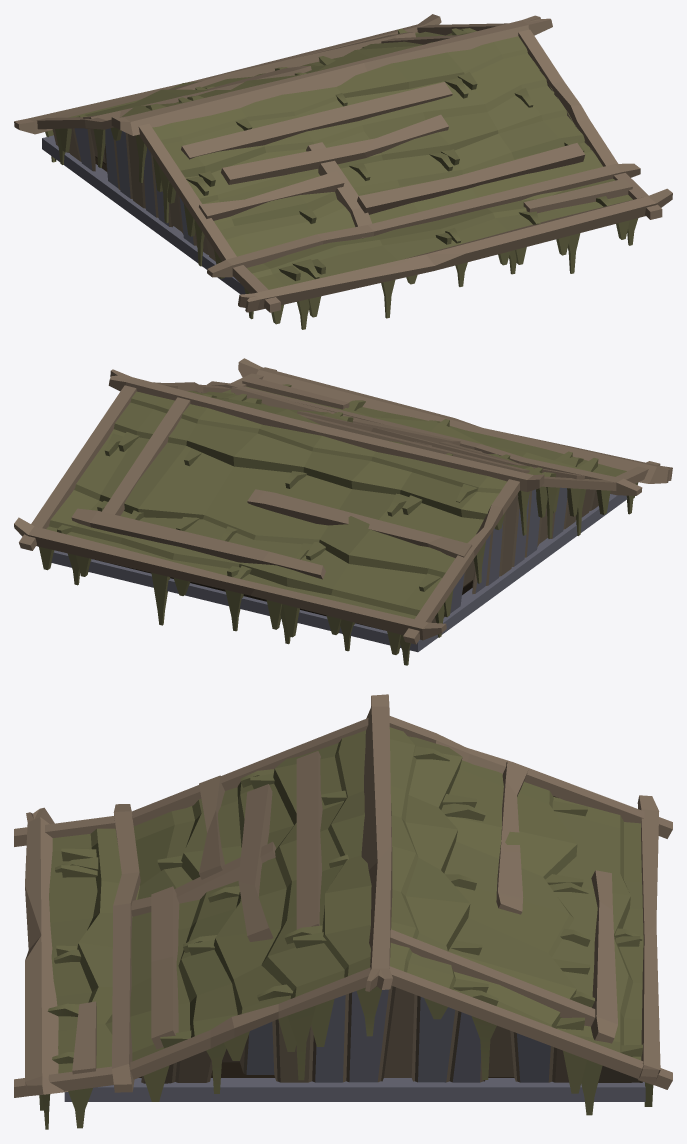
The model's file is SM_Bld_Shanty_Roof_01.fbx.
3 renders of one model, top to bottom at view 1: azimuth 30°, elevation 25°; view 2: azimuth 150°, elevation 25°; view 3: azimuth 270°, elevation 25°, orthographic. The views are drawn at different scales.
Parts seen in each view (by area): view 1: SM_Bld_Shanty_Roof_01; view 2: SM_Bld_Shanty_Roof_01; view 3: SM_Bld_Shanty_Roof_01.
Boxes of the visible parts, box(x1,y1,x2,y2) form: SM_Bld_Shanty_Roof_01: box(14, 14, 672, 329); SM_Bld_Shanty_Roof_01: box(14, 358, 672, 665); SM_Bld_Shanty_Roof_01: box(14, 694, 672, 1129).
Size of the model in its own units: 5.94 by 1.89 by 5.79.
